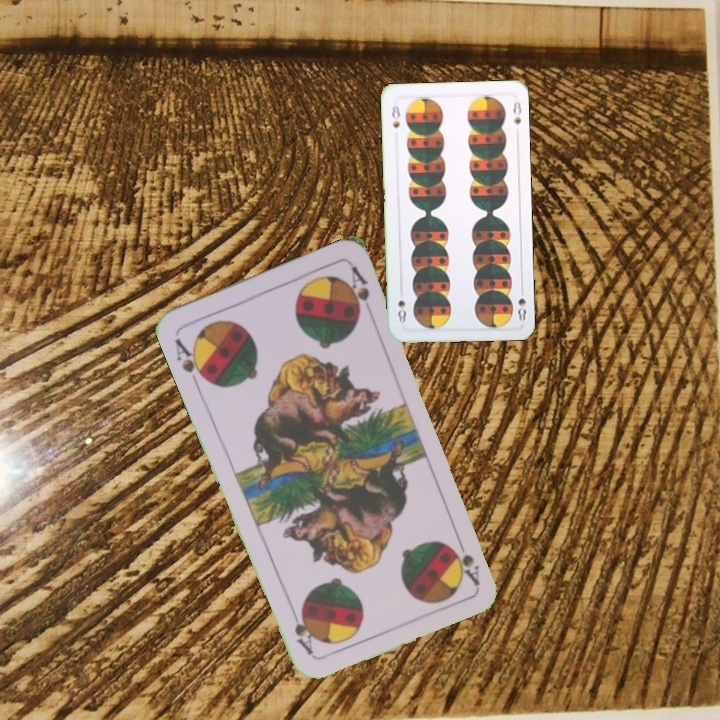S8: (514, 283, 529, 324), (388, 98, 403, 130)
SA: (171, 334, 211, 389), (452, 531, 482, 588)
